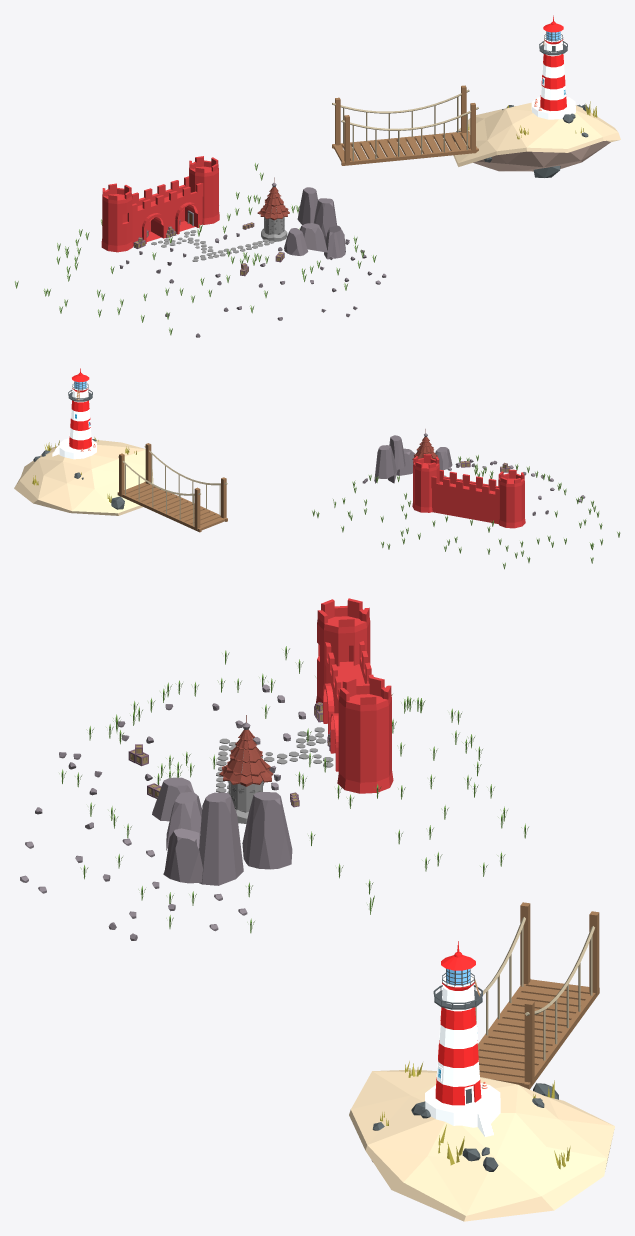
Rendered from structures.glb.
3 renders of one model, top to bottom at view 1: azimuth 30°, elevation 25°; view 2: azimuth 150°, elevation 25°; view 3: azimuth 270°, elevation 25°, orthographic. The views are drawn at different scales.
Parts seen in each view (by area): view 1: island.001, Castle_Wall.001, Bridge, Stone_Large.001, lighthouse.001, Grass_Tuft.001, Path_Stone.001, Roof_Tiles.002, Castle_Tower.001, Crate_Wood.001; view 2: island.001, Castle_Wall.001, Bridge, lighthouse.001, Stone_Large.001, Grass_Tuft.001, Roof_Tiles.002; view 3: island.001, Stone_Large.001, Castle_Wall.001, Bridge, lighthouse.001, Grass_Tuft.001, Roof_Tiles.002, Path_Stone.001, Crate_Wood.001, Castle_Tower.001.
Boxes of the visible parts, x1,y1,x2,y2 form: island.001: [452, 101, 620, 177]; Castle_Wall.001: [101, 156, 219, 252]; Bridge: [332, 85, 478, 165]; Stone_Large.001: [119, 187, 386, 337]; lighthouse.001: [531, 15, 575, 119]; Grass_Tuft.001: [15, 163, 376, 335]; Path_Stone.001: [151, 230, 274, 261]; Roof_Tiles.002: [257, 177, 289, 220]; Castle_Tower.001: [261, 182, 287, 241]; Crate_Wood.001: [133, 220, 284, 276]; island.001: [14, 437, 153, 515]; Castle_Wall.001: [412, 454, 525, 528]; Bridge: [117, 443, 227, 532]; lighthouse.001: [52, 368, 96, 459]; Stone_Large.001: [362, 435, 585, 515]; Grass_Tuft.001: [312, 455, 620, 569]; Roof_Tiles.002: [412, 429, 439, 462]; island.001: [349, 1061, 614, 1221]; Stone_Large.001: [20, 684, 305, 940]; Castle_Wall.001: [316, 598, 393, 793]; Bridge: [475, 902, 599, 1089]; lighthouse.001: [425, 941, 500, 1136]; Grass_Tuft.001: [59, 646, 528, 933]; Roof_Tiles.002: [219, 715, 273, 786]; Path_Stone.001: [216, 727, 333, 793]; Crate_Wood.001: [128, 702, 330, 807]; Castle_Tower.001: [228, 722, 263, 823].
Bounding box in the file's own units: 40.58 × 9.69 × 19.3.
